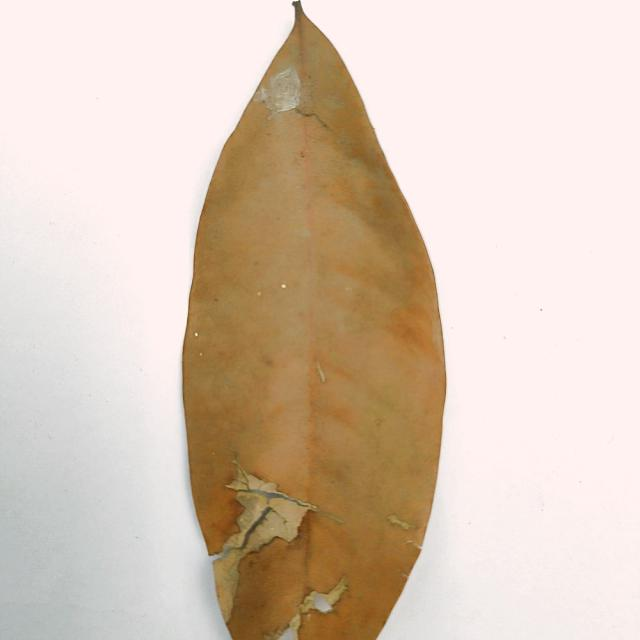Dry_Leaf-Lychee: (180, 4, 448, 639)
